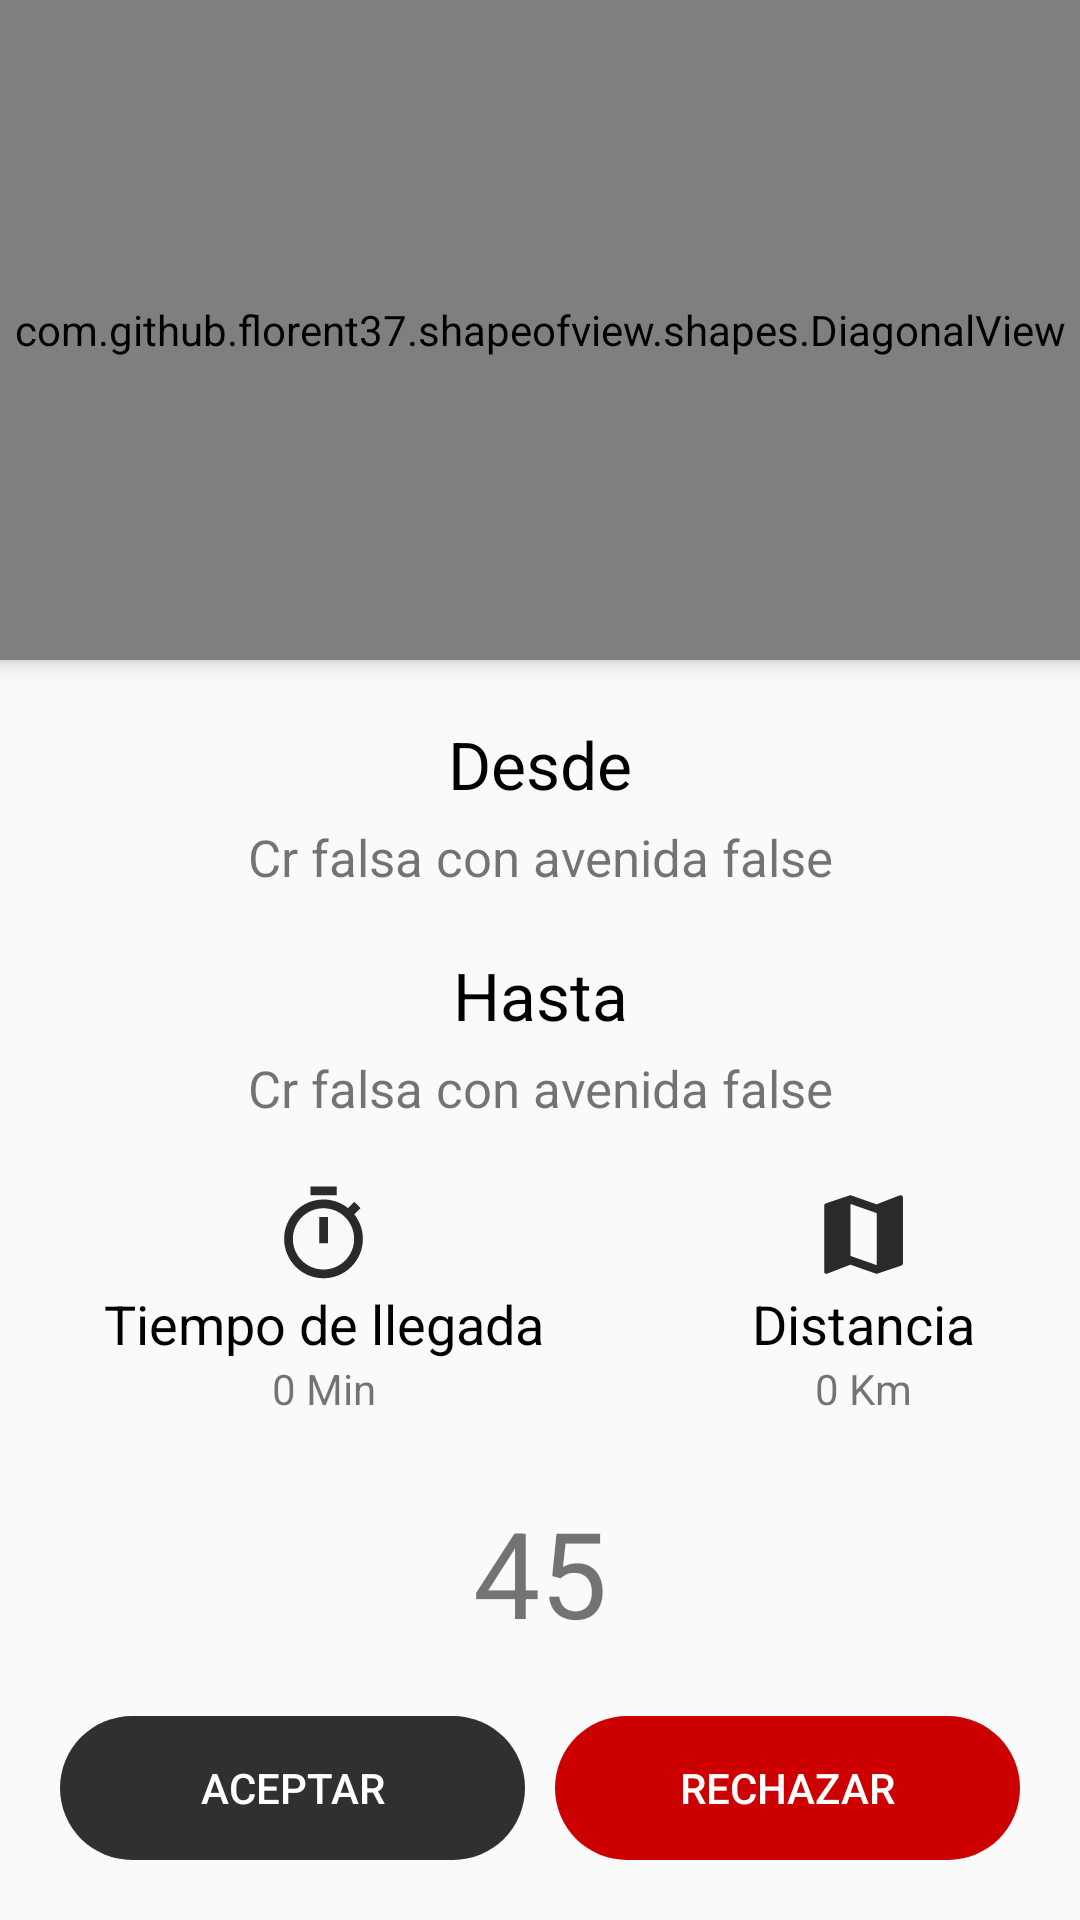

Locate icon controls on the screen. Image size 1080px x 1920px, boxes as (x1, y1, x2, y2).
timer: (284, 1186, 363, 1279)
